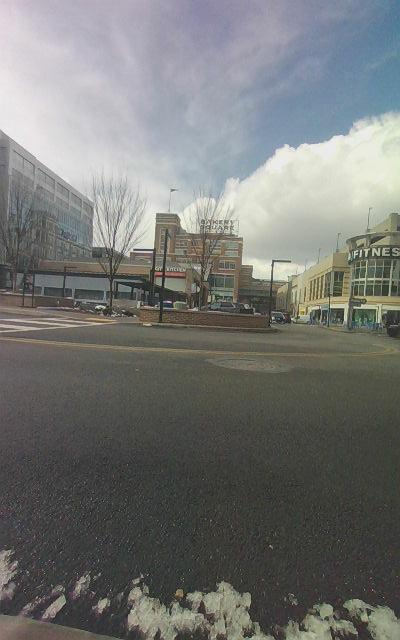curb: (0, 614, 117, 639)
road: (2, 312, 399, 639)
